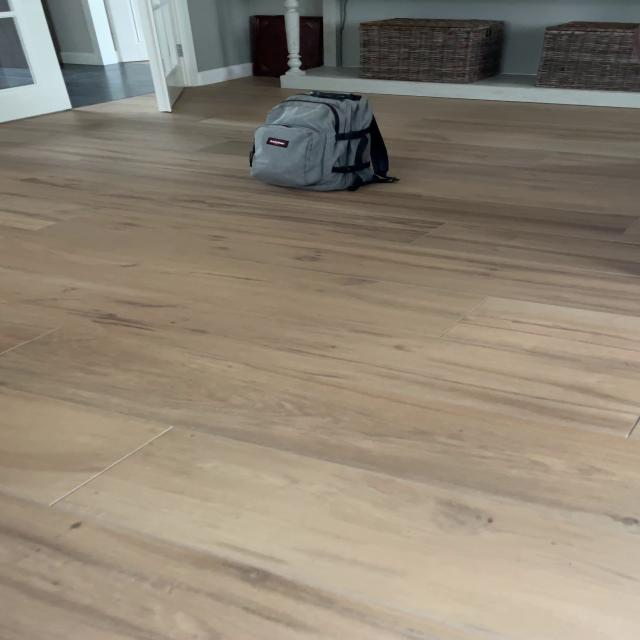backpack: (242, 86, 396, 196)
